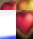heart: (16, 10, 33, 39), (0, 0, 16, 10)
